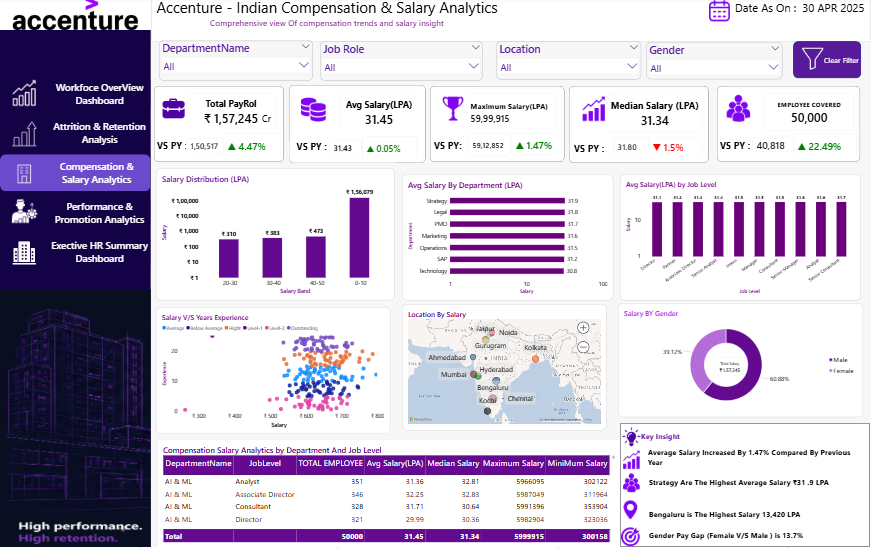

This screenshot's page, from the dashboard's own definition file:
{"tool":"powerbi","page":{"name":"Compensation & Salary Analytics ","canvas":[2500,1580],"ordinal":2},"visuals":[{"type":"shape","box":[0,0,432.9,94.8],"z":0,"group":"g3"},{"type":"shape","box":[432.9,0,2066.6,129.6],"z":0,"group":"g2"},{"type":"shape","box":[0,94.8,432.9,1485.2],"z":0,"group":"g1"},{"type":"slicer","fields":{"Values":["DimDepartment.DepartmentName"]},"box":[457,123.6,442.4,116.9],"z":0,"group":"g4"},{"type":"shape","box":[829.5,253.7,391.8,224.4],"z":0,"group":"g6"},{"type":"shape","box":[1635.3,255.3,401.3,221.2],"z":0,"group":"g8"},{"type":"shape","box":[2060,256,410.8,218],"z":0,"group":"g9"},{"type":"shape","box":[442.4,256.9,372.9,218],"z":0,"group":"g5"},{"type":"shape","box":[1235.6,256.9,385.5,218],"z":0,"group":"g7"},{"type":"donutChart","title":"Salary BY Gender","fields":{"Category":["DimEmployee.Gender"],"Y":["All_Measure_Page3.Total PayRol"]},"box":[1776,880,704,328],"z":0,"group":"g11"},{"type":"map","title":"Location By Salary","fields":{"Category":["DimLocation.City"],"Size":["All_Measure_Page3.Total PayRol"]},"box":[1155,882.5,587.5,362.5],"z":0},{"type":"shape","box":[1782,1224,718,356],"z":0,"group":"g10"},{"type":"scatterChart","title":"Salary V/S  Years Experience","fields":{"Category":["FactWorkforce.YearsExperience"],"Series":["FactWorkforce.Experience Level"],"X":["All_Measure_Page3.Total PayRol"],"Y":["Avg(FactWorkforce.YearsExperience)"]},"box":[447.5,890,672.5,365],"z":250},{"type":"clusteredBarChart","title":"Avg Salary By Department (LPA)","fields":{"Category":["DimDepartment.DepartmentName"],"Y":["All_Measure_Page3.Avg Salary(LPA)"]},"box":[1153.4,508.8,606.7,363.4],"z":312},{"type":"clusteredColumnChart","title":"Avg Salary(LPA) by Job Level","fields":{"Category":["DimJobLevel.JobLevel"],"Y":["All_Measure_Page3.Avg Salary(LPA)"]},"box":[1782,508,692,364],"z":375},{"type":"tableEx","title":"Compensation Salary Analytics by Department And Job Level","fields":{"Values":["DimDepartment.DepartmentName","DimJobLevel.JobLevel","ALL_Measure_Page1.TOTAL EMPLOYEE","All_Measure_Page3.Avg Salary(LPA)","All_Measure_Page3.Median Salary","All_Measure_Page3.Maximum Salary","All_Measure_Page3.MiniMum Salary"]},"box":[450,1270,1332.5,312.5],"z":500},{"type":"image","box":[0,0,432.9,94.8],"z":1000,"group":"g3"},{"type":"textbox","box":[432.9,0,1011.2,129.6],"z":1000,"group":"g2"},{"type":"slicer","fields":{"Values":["DimJobLevel.JobLevel"]},"box":[918.4,126.8,467.7,113.8],"z":1000,"group":"g4"},{"type":"pageNavigator","box":[0,224.4,432.9,565.6],"z":1000,"group":"g1"},{"type":"image","box":[1670.6,268,72.8,108],"z":1000,"group":"g8"},{"type":"image","box":[2083.1,268.5,77,105.9],"z":1000,"group":"g9"},{"type":"image","box":[463.4,269.4,69.9,105.9],"z":1000,"group":"g5"},{"type":"image","box":[1268.1,269.4,69.2,106.5],"z":1000,"group":"g7"},{"type":"image","box":[865.1,270,71.4,107.1],"z":1000,"group":"g6"},{"type":"clusteredColumnChart","title":"Salary Distribution (LPA)","fields":{"Category":["FactWorkforce.Salary Band"],"Y":["All_Measure_Page3.Total PayRol"]},"box":[448,492,686,380],"z":1000},{"type":"cardVisual","fields":{"Data":["All_Measure_Page3.Total PayRol"]},"box":[2050.8,1036.5,88.5,53.7],"z":1000,"group":"g11"},{"type":"textbox","box":[1842,1248,128,46],"z":1000,"group":"g10"},{"type":"textbox","box":[2110.9,9.5,388.7,60],"z":2000,"group":"g2"},{"type":"group","id":"g1","title":"Left Pane","box":[0,94.8,432.9,1485.2],"z":2000},{"type":"slicer","fields":{"Values":["DimLocation.City"]},"box":[1424,126.8,417.1,110.6],"z":2000,"group":"g4"},{"type":"image","box":[31.6,233.8,75.8,85.3],"z":2000,"group":"g1"},{"type":"cardVisual","fields":{"Data":["ALL_Measure_Page1.TOTAL EMPLOYEE"]},"box":[2193.6,275.8,258.8,109],"z":2000,"group":"g9"},{"type":"cardVisual","fields":{"Data":["All_Measure_Page3.Maximum Salary"]},"box":[1338,276,260,110],"z":2000,"group":"g7"},{"type":"cardVisual","fields":{"Data":["All_Measure_Page3.Total PayRol"]},"box":[535,277.5,257.5,107.5],"z":2000,"group":"g5"},{"type":"cardVisual","fields":{"Data":["All_Measure_Page3.Median Salary"]},"box":[1742,278,278,108],"z":2000,"group":"g8"},{"type":"cardVisual","fields":{"Data":["All_Measure_Page3.Avg Salary(LPA)"]},"box":[972.2,279.5,228.6,107.1],"z":2000,"group":"g6"},{"type":"image","box":[1788,1232,54,62],"z":2000,"group":"g10"},{"type":"group","id":"g2","title":"Top Pane","box":[432.9,0,2066.6,129.6],"z":3000},{"type":"image","box":[2035,0,60,79],"z":3000,"group":"g2"},{"type":"slicer","fields":{"Values":["DimEmployee.Gender"]},"box":[1857,127.9,391.8,107.4],"z":3000,"group":"g4"},{"type":"textbox","box":[2069.2,407.1,115.1,64.4],"z":3000,"group":"g9"},{"type":"textbox","box":[450.7,408,104.5,64.4],"z":3000,"group":"g5"},{"type":"textbox","box":[1246.4,408,115.9,47.1],"z":3000,"group":"g7"},{"type":"textbox","box":[842.6,412,120.6,64.8],"z":3000,"group":"g6"},{"type":"textbox","box":[1649,414.9,111.9,42.7],"z":3000,"group":"g8"},{"type":"image","box":[0,837.4,432.9,742.6],"z":3000,"group":"g1"},{"type":"image","box":[1788,1298,54,62],"z":3000,"group":"g10"},{"type":"group","id":"g3","title":"Logo","box":[0,0,432.9,94.8],"z":4000},{"type":"shape","box":[2278.4,126.4,195.9,107.4],"z":4000,"group":"g4"},{"type":"image","box":[31.6,350.8,75.8,85.3],"z":4000,"group":"g1"},{"type":"cardVisual","fields":{"Data":["All_Measure_Page3.Previous Year Maximum Salary"]},"box":[1346,392,122,66],"z":4000,"group":"g7"},{"type":"cardVisual","fields":{"Data":["All_Measure_Page3.Previous Median Salary"]},"box":[1760.9,402.3,106.5,52.8],"z":4000,"group":"g8"},{"type":"cardVisual","fields":{"Data":["ALL_Measure_Page1.Previous Year Employee"]},"box":[2160.8,403.7,134.9,42.5],"z":4000,"group":"g9"},{"type":"cardVisual","fields":{"Data":["All_Measure_Page3.PayRole Previous"]},"box":[535,405,210,42.5],"z":4000,"group":"g5"},{"type":"cardVisual","fields":{"Data":["All_Measure_Page3.Salary Previous"]},"box":[944.9,412,94.4,39.9],"z":4000,"group":"g6"},{"type":"textbox","box":[1862,1294,618,70],"z":4000,"group":"g10"},{"type":"group","id":"g4","title":"Slicer Top","box":[457,123.6,2017.3,116.9],"z":5000},{"type":"image","box":[2303.7,142.2,63.2,72.7],"z":5000,"group":"g4"},{"type":"cardVisual","fields":{"Data":["ALL_Measure_Page1.Employee Difference"]},"box":[2279.2,391.2,184.5,70],"z":5000,"group":"g9"},{"type":"cardVisual","fields":{"Data":["All_Measure_Page3.Difference Salary Max"]},"box":[1468,392,136,62],"z":5000,"group":"g7"},{"type":"cardVisual","fields":{"Data":["All_Measure_Page3.Difference PayRol"]},"box":[641.4,392.1,167.5,70],"z":5000,"group":"g5"},{"type":"cardVisual","fields":{"Data":["All_Measure_Page3.Difference Salary"]},"box":[1039.3,399.5,157.3,67.3],"z":5000,"group":"g6"},{"type":"cardVisual","fields":{"Data":["All_Measure_Page3.Difference Median Salary"]},"box":[1861.9,402.3,158.3,55.3],"z":5000,"group":"g8"},{"type":"image","box":[31.6,464.5,75.8,85.3],"z":5000,"group":"g1"},{"type":"image","box":[1788,1364,54,62],"z":5000,"group":"g10"},{"type":"textbox","box":[2366.9,167.5,107.4,47.4],"z":6000,"group":"g4"},{"type":"group","id":"g5","title":"Total PayRole","box":[442.4,256.9,372.9,218],"z":6000},{"type":"textbox","box":[752.5,332.5,40,42.5],"z":6000,"group":"g5"},{"type":"image","box":[31.6,572,75.8,85.3],"z":6000,"group":"g1"},{"type":"textbox","box":[1866,1380,614,62],"z":6000,"group":"g10"},{"type":"group","id":"g6","title":"Avg Salary","box":[829.5,253.7,391.8,224.4],"z":7000},{"type":"image","box":[31.6,692,75.8,85.3],"z":7000,"group":"g1"},{"type":"image","box":[1786,1442,54,62],"z":7000,"group":"g10"},{"type":"group","id":"g7","title":"Max Salary ","box":[1235.6,256.9,385.5,218],"z":8000},{"type":"textbox","box":[1866,1472,634,42],"z":8000,"group":"g10"},{"type":"group","id":"g8","title":"Median Salary","box":[1635.3,255.3,401.3,221.2],"z":9000},{"type":"image","box":[1786,1524,54,56],"z":9000,"group":"g10"},{"type":"group","id":"g9","title":"Employee Coverd ","box":[2060,256,410,218],"z":10000},{"type":"textbox","box":[1866,1532,590,48],"z":10000,"group":"g10"},{"type":"group","id":"g10","title":"Key Insight","box":[1782,1224,718,356],"z":15000},{"type":"group","id":"g11","title":"Salary By Gender","box":[1776,880,704,328],"z":16000}]}

Visuals, with their boxes on the page's 2500x1580 design canvas (x1, y1, x2, y2). These are canvas units, not pixel positions in the 871x548 screenshot, which may show the page scaled, cropped or inside an application window:
shape: (0, 0, 433, 95)
shape: (433, 0, 2500, 130)
shape: (0, 95, 433, 1580)
slicer - DimDepartment.DepartmentName: (457, 124, 899, 240)
shape: (830, 254, 1221, 478)
shape: (1635, 255, 2037, 476)
shape: (2060, 256, 2471, 474)
shape: (442, 257, 815, 475)
shape: (1236, 257, 1621, 475)
"Salary BY Gender" donutChart: (1776, 880, 2480, 1208)
"Location By Salary" map: (1155, 882, 1742, 1245)
shape: (1782, 1224, 2500, 1580)
"Salary V/S  Years Experience" scatterChart: (448, 890, 1120, 1255)
"Avg Salary By Department (LPA)" clusteredBarChart: (1153, 509, 1760, 872)
"Avg Salary(LPA) by Job Level" clusteredColumnChart: (1782, 508, 2474, 872)
"Compensation Salary Analytics by Department And Job Level" tableEx: (450, 1270, 1782, 1582)
image: (0, 0, 433, 95)
textbox: (433, 0, 1444, 130)
slicer - DimJobLevel.JobLevel: (918, 127, 1386, 241)
pageNavigator: (0, 224, 433, 790)
image: (1671, 268, 1743, 376)
image: (2083, 268, 2160, 374)
image: (463, 269, 533, 375)
image: (1268, 269, 1337, 376)
image: (865, 270, 936, 377)
"Salary Distribution (LPA)" clusteredColumnChart: (448, 492, 1134, 872)
cardVisual - All_Measure_Page3.Total PayRol: (2051, 1036, 2139, 1090)
textbox: (1842, 1248, 1970, 1294)
textbox: (2111, 10, 2500, 70)
"Left Pane" group: (0, 95, 433, 1580)
slicer - DimLocation.City: (1424, 127, 1841, 237)
image: (32, 234, 107, 319)
cardVisual - ALL_Measure_Page1.TOTAL EMPLOYEE: (2194, 276, 2452, 385)
cardVisual - All_Measure_Page3.Maximum Salary: (1338, 276, 1598, 386)
cardVisual - All_Measure_Page3.Total PayRol: (535, 278, 792, 385)
cardVisual - All_Measure_Page3.Median Salary: (1742, 278, 2020, 386)
cardVisual - All_Measure_Page3.Avg Salary(LPA): (972, 280, 1201, 387)
image: (1788, 1232, 1842, 1294)
"Top Pane" group: (433, 0, 2500, 130)
image: (2035, 0, 2095, 79)
slicer - DimEmployee.Gender: (1857, 128, 2249, 235)
textbox: (2069, 407, 2184, 472)
textbox: (451, 408, 555, 472)
textbox: (1246, 408, 1362, 455)
textbox: (843, 412, 963, 477)
textbox: (1649, 415, 1761, 458)
image: (0, 837, 433, 1580)
image: (1788, 1298, 1842, 1360)
"Logo" group: (0, 0, 433, 95)
shape: (2278, 126, 2474, 234)
image: (32, 351, 107, 436)
cardVisual - All_Measure_Page3.Previous Year Maximum Salary: (1346, 392, 1468, 458)
cardVisual - All_Measure_Page3.Previous Median Salary: (1761, 402, 1867, 455)
cardVisual - ALL_Measure_Page1.Previous Year Employee: (2161, 404, 2296, 446)
cardVisual - All_Measure_Page3.PayRole Previous: (535, 405, 745, 448)
cardVisual - All_Measure_Page3.Salary Previous: (945, 412, 1039, 452)
textbox: (1862, 1294, 2480, 1364)
"Slicer Top" group: (457, 124, 2474, 240)
image: (2304, 142, 2367, 215)
cardVisual - ALL_Measure_Page1.Employee Difference: (2279, 391, 2464, 461)
cardVisual - All_Measure_Page3.Difference Salary Max: (1468, 392, 1604, 454)
cardVisual - All_Measure_Page3.Difference PayRol: (641, 392, 809, 462)
cardVisual - All_Measure_Page3.Difference Salary: (1039, 400, 1197, 467)
cardVisual - All_Measure_Page3.Difference Median Salary: (1862, 402, 2020, 458)
image: (32, 464, 107, 550)
image: (1788, 1364, 1842, 1426)
textbox: (2367, 168, 2474, 215)
"Total PayRole" group: (442, 257, 815, 475)
textbox: (752, 332, 792, 375)
image: (32, 572, 107, 657)
textbox: (1866, 1380, 2480, 1442)
"Avg Salary" group: (830, 254, 1221, 478)
image: (32, 692, 107, 777)
image: (1786, 1442, 1840, 1504)
"Max Salary " group: (1236, 257, 1621, 475)
textbox: (1866, 1472, 2500, 1514)
"Median Salary" group: (1635, 255, 2037, 476)
image: (1786, 1524, 1840, 1580)
"Employee Coverd " group: (2060, 256, 2470, 474)
textbox: (1866, 1532, 2456, 1580)
"Key Insight" group: (1782, 1224, 2500, 1580)
"Salary By Gender" group: (1776, 880, 2480, 1208)
